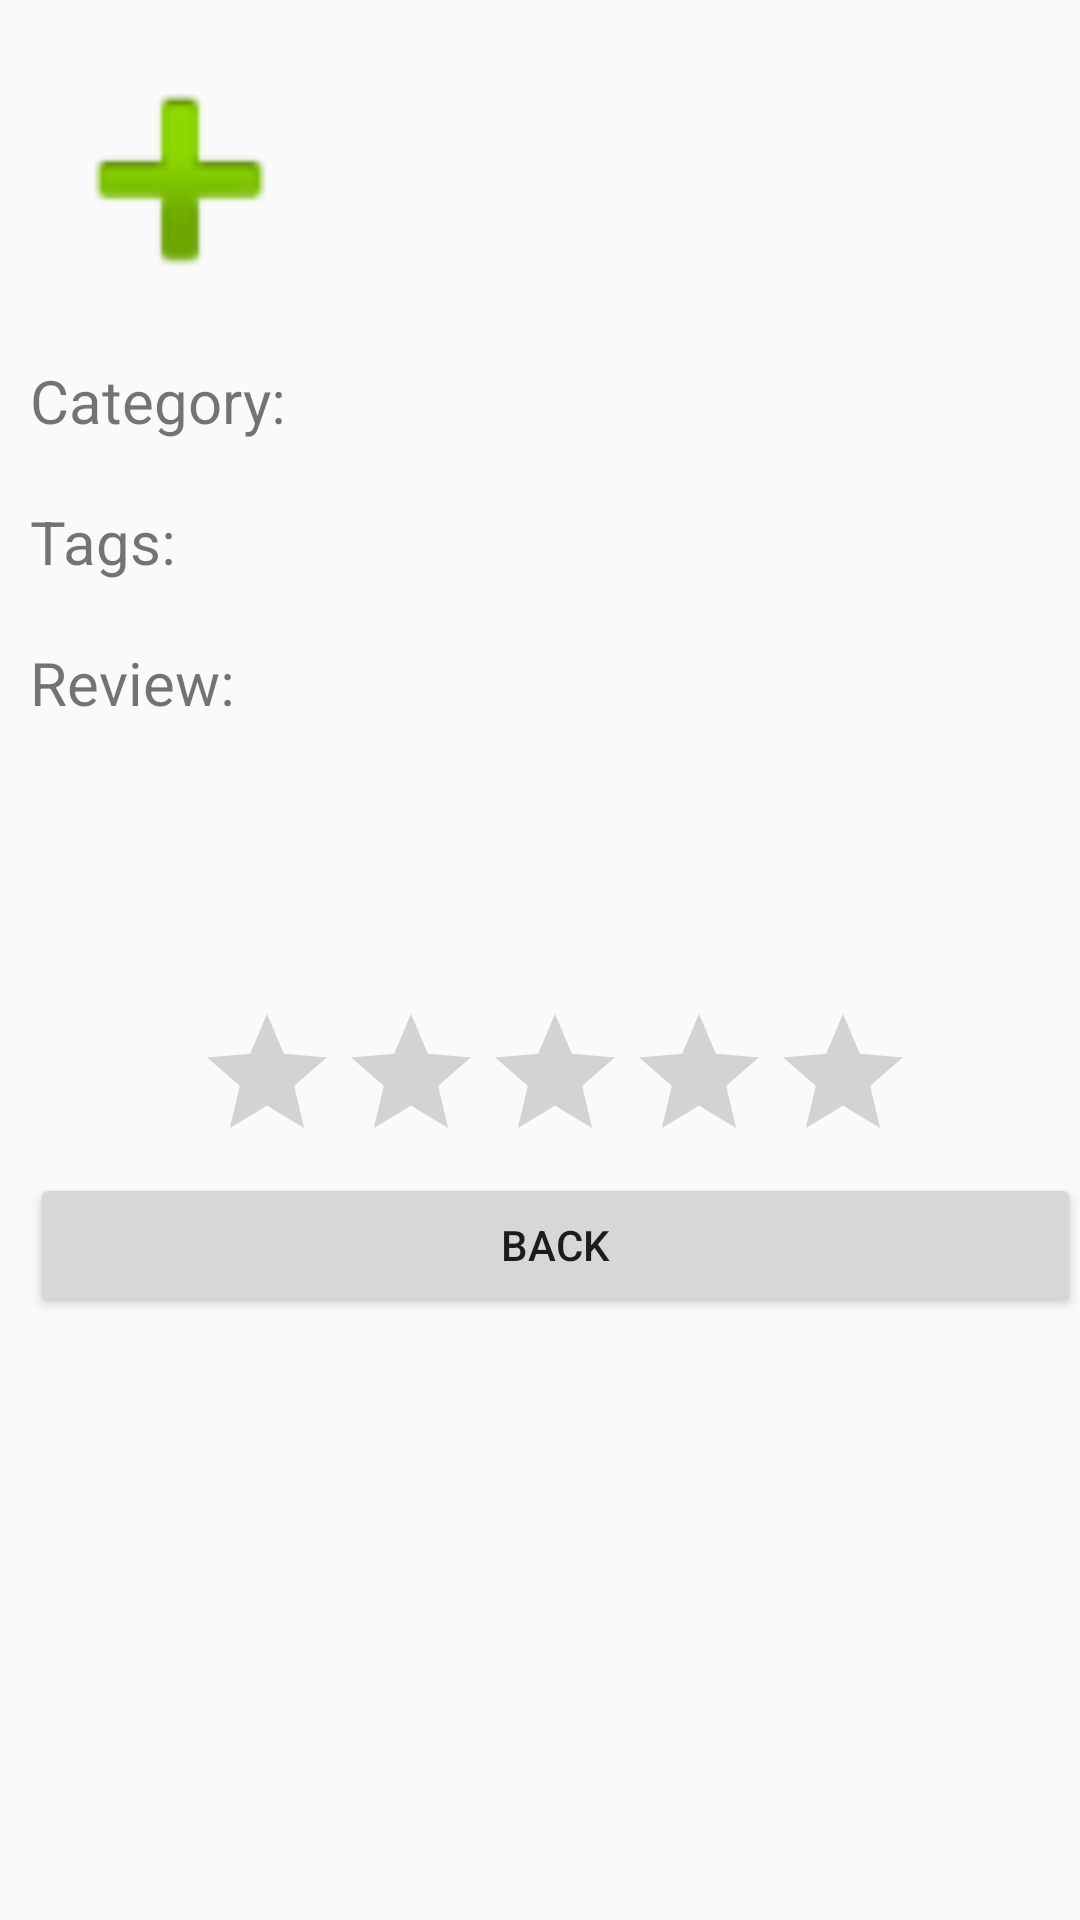

Icons on this 1080×1920 Android screen, each with the point to tap as [x,y]:
Press to insert image!: [180,180]
